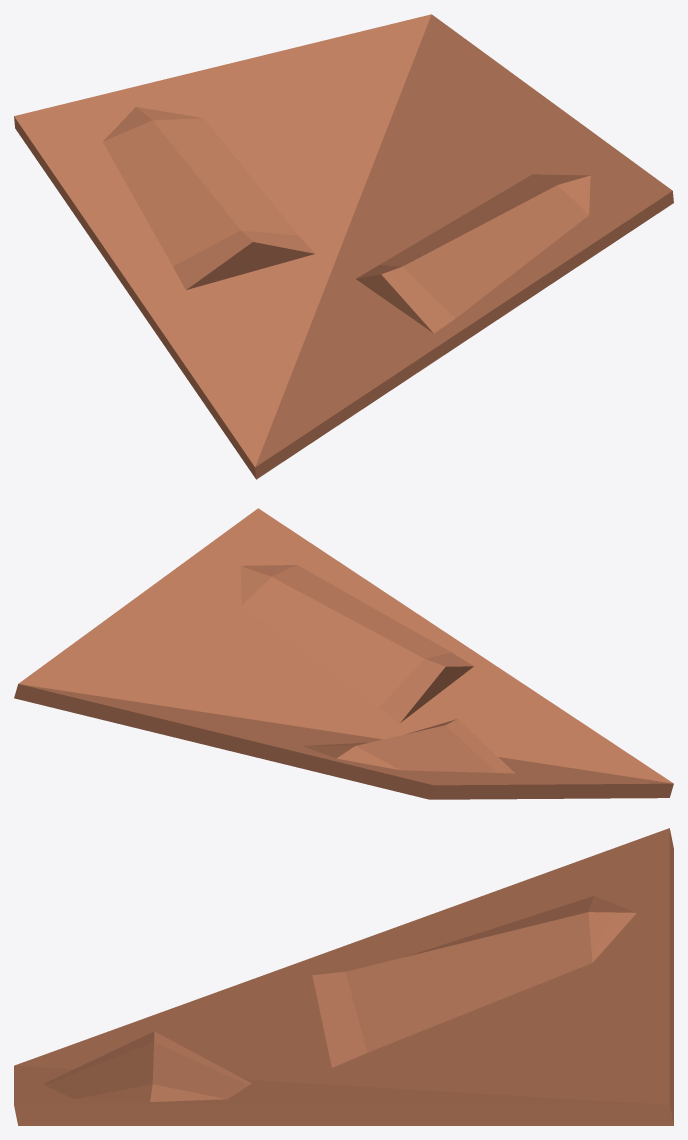
Rendered from empire-roof-in-edge-small-1m-empire.glb.
3 views of the same model, one above another, from view 1: azimuth 30°, elevation 25°; view 2: azimuth 150°, elevation 25°; view 3: azimuth 270°, elevation 25° (orthographic). The views are drawn at different scales.
Parts seen in each view (by area): view 1: SM_Roof_In_Edge_Small_1m_Empire; view 2: SM_Roof_In_Edge_Small_1m_Empire; view 3: SM_Roof_In_Edge_Small_1m_Empire.
Boxes of the visible parts, bbox=[...] form: SM_Roof_In_Edge_Small_1m_Empire: bbox=[14, 14, 673, 479]; SM_Roof_In_Edge_Small_1m_Empire: bbox=[14, 508, 673, 799]; SM_Roof_In_Edge_Small_1m_Empire: bbox=[14, 828, 673, 1125].
Size of the model in its own units: 1.51 by 0.6484 by 1.51.
